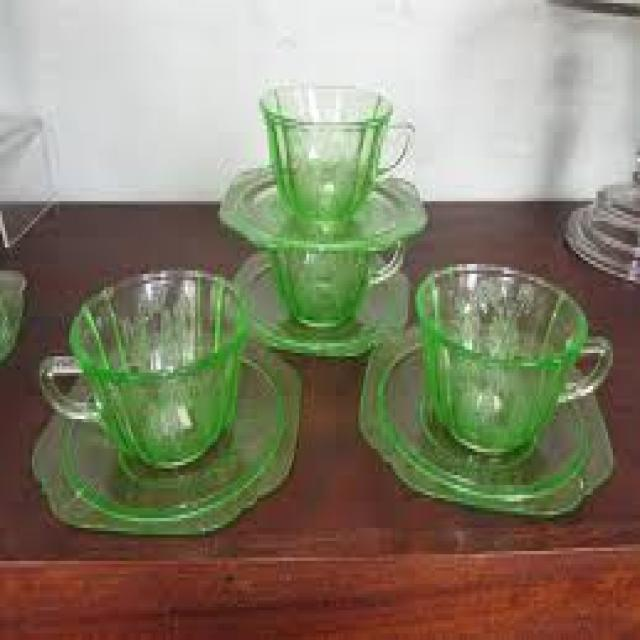glass: (30, 343, 299, 531), (358, 320, 613, 518), (35, 268, 242, 469), (413, 261, 610, 455), (260, 80, 410, 225), (227, 248, 408, 360), (215, 162, 423, 248), (270, 241, 401, 330), (564, 149, 638, 277), (0, 115, 57, 241), (0, 268, 22, 357)
